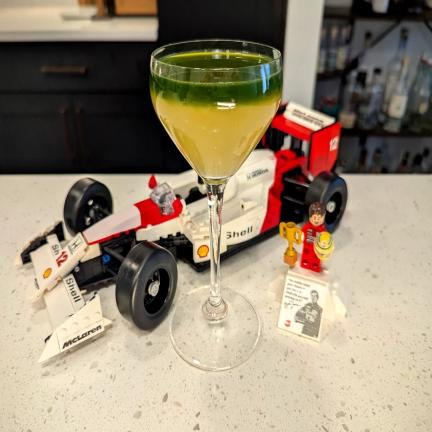container: (151, 39, 282, 186)
fluid: (151, 70, 283, 177)
fluid-surface: (150, 71, 283, 178), (151, 55, 281, 85)
